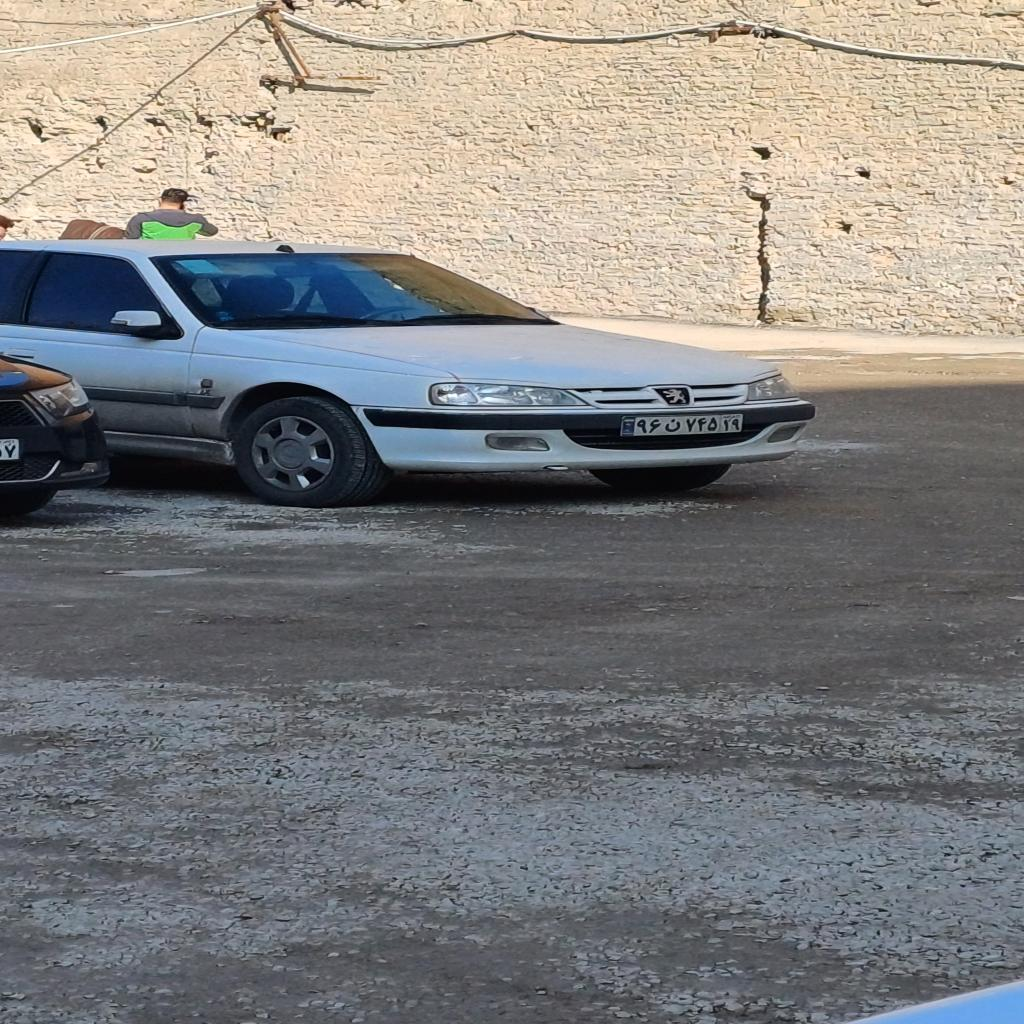Plates: (621, 413, 744, 437)
